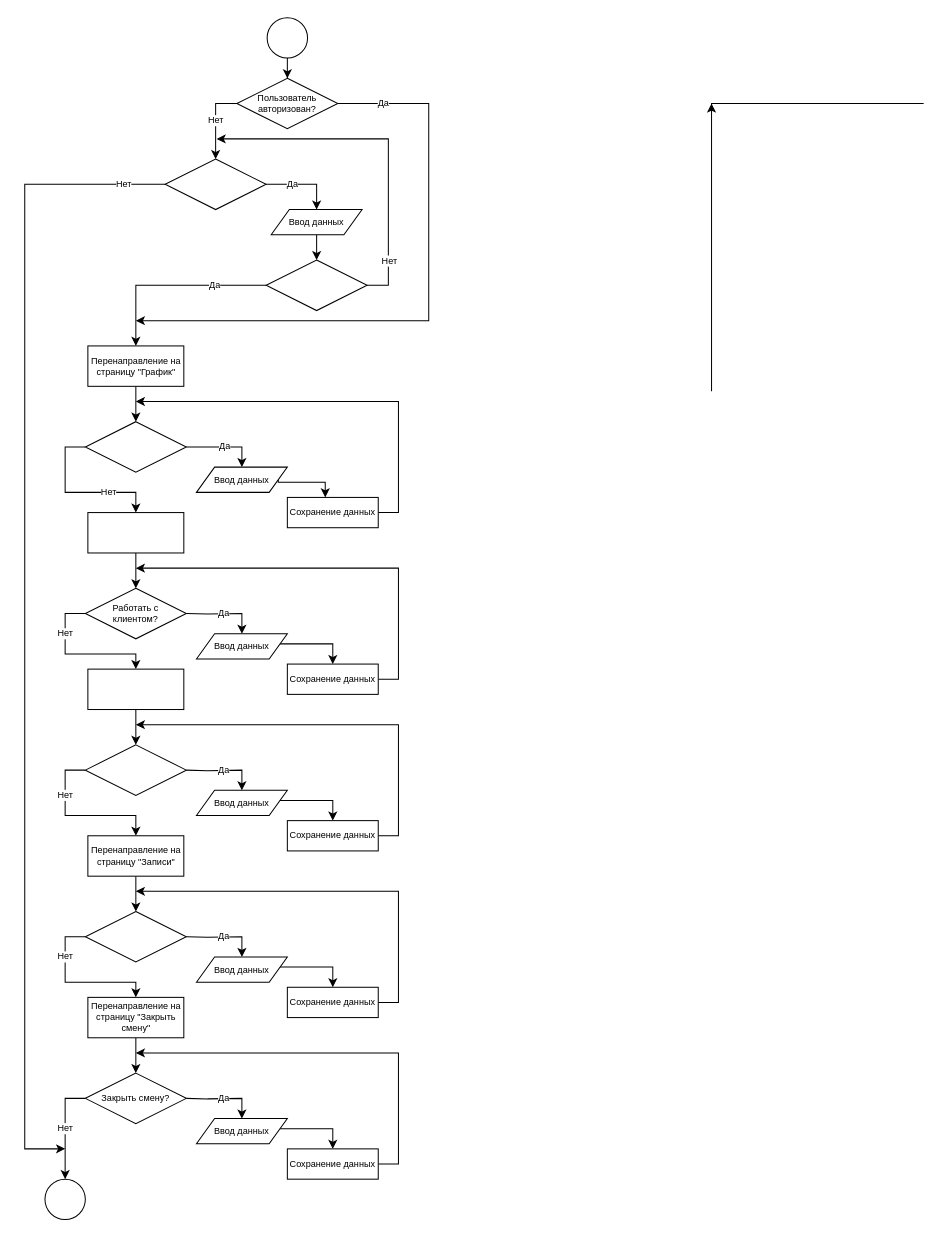
The diagram is 949 pixels wide and 1237 high, and some of its shapes have lost their labels. Here are the shapes that lost their labels. From the top down, the centre of each, then its label:
(287,37): Начало
(215,184): Авторизоваться?
(316,285): Данные верны?
(135,446): Редактировать график?
(135,532): Перенаправление на страницу "Клиенты"
(135,689): Перенаправление на страницу "записать"
(135,769): Записать клиента?
(135,936): Работать с записью?
(64,1199): Конец
